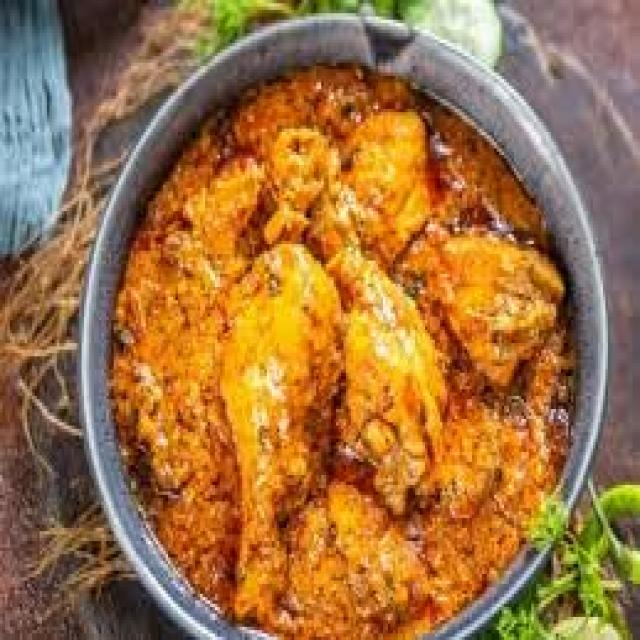Chicken Curry: (104, 66, 583, 637)
